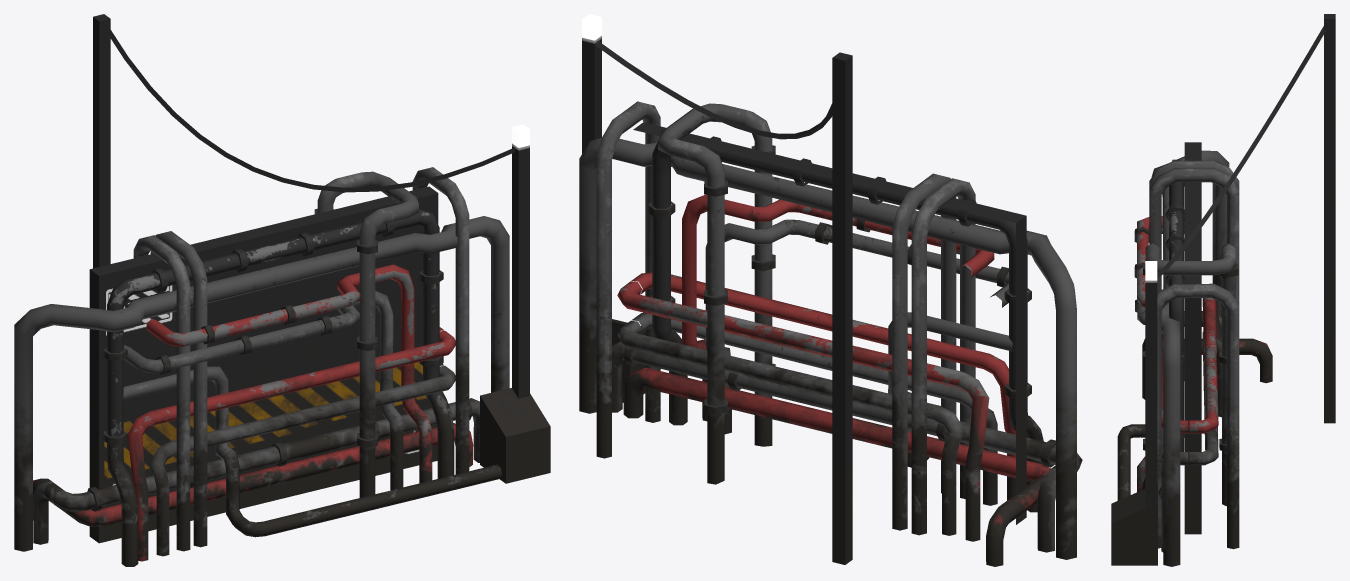
File: wall.gltf
3 renders of one model, left to right at view 1: azimuth 30°, elevation 25°; view 2: azimuth 150°, elevation 25°; view 3: azimuth 270°, elevation 25°, orthographic. The views are drawn at different scales.
Parts seen in each view (by area): view 1: SM_obj_PipeWall; view 2: SM_obj_PipeWall; view 3: SM_obj_PipeWall.
Part boxes in pixels (bbox=[...]): SM_obj_PipeWall: bbox=[14, 14, 550, 566]; SM_obj_PipeWall: bbox=[579, 14, 1082, 566]; SM_obj_PipeWall: bbox=[1111, 14, 1335, 566].
Bounding box in the file's own units: 318 × 293 × 144.
Materials: 1 (1 with a texture image).
